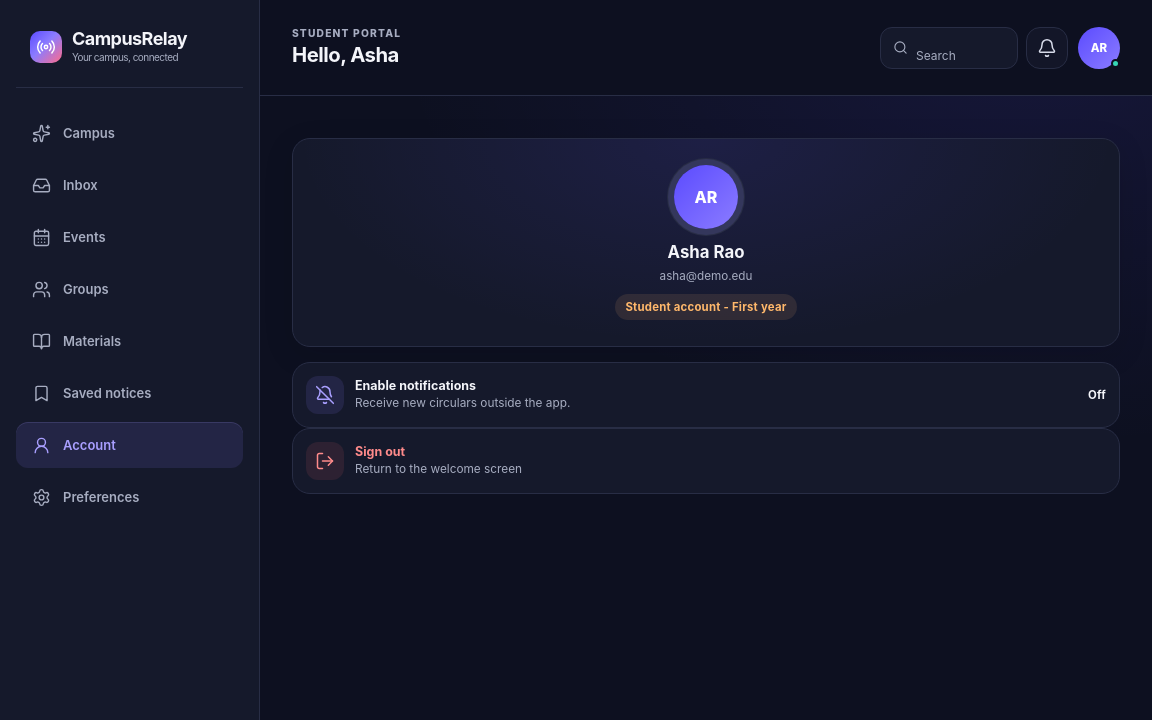
StudentPortal Tier 2 controls › registers, stores, and removes a browser push subscription
The image size is (1152, 720).
Click the button "Enable notifications".
click(325, 395)  # box [293, 363, 1119, 427]
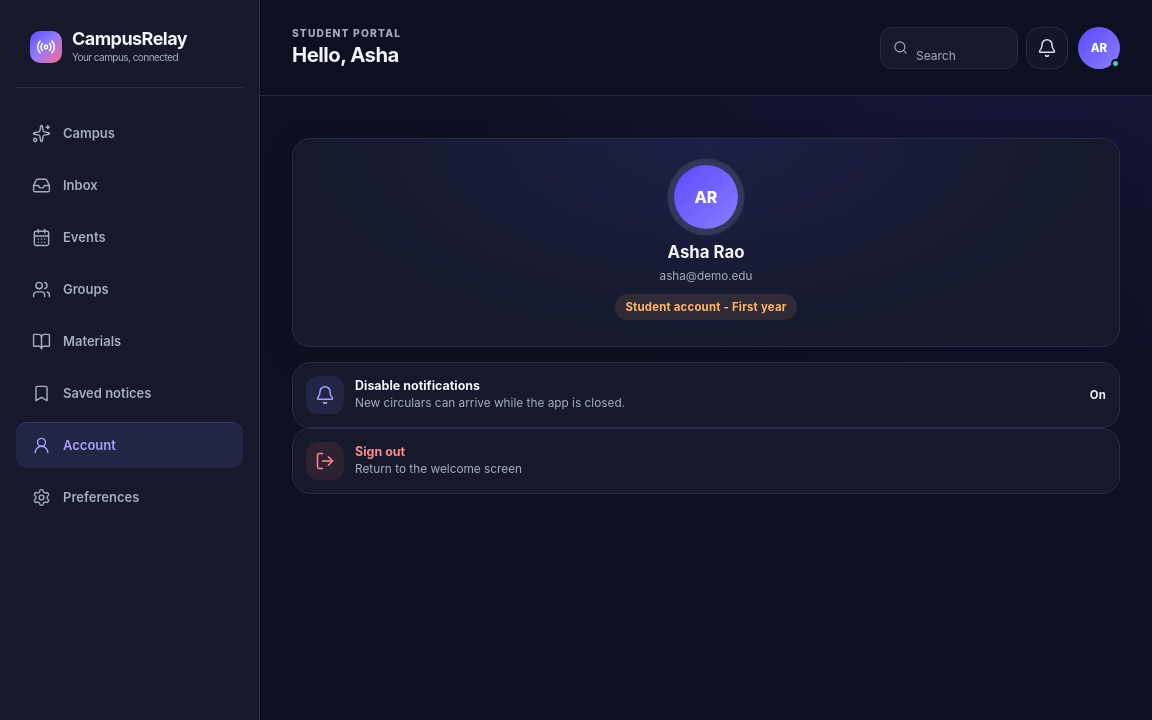
Check: the button "Disable notifications" is shown
Click the button "Disable notifications".
click(325, 395)  # box [293, 363, 1119, 427]
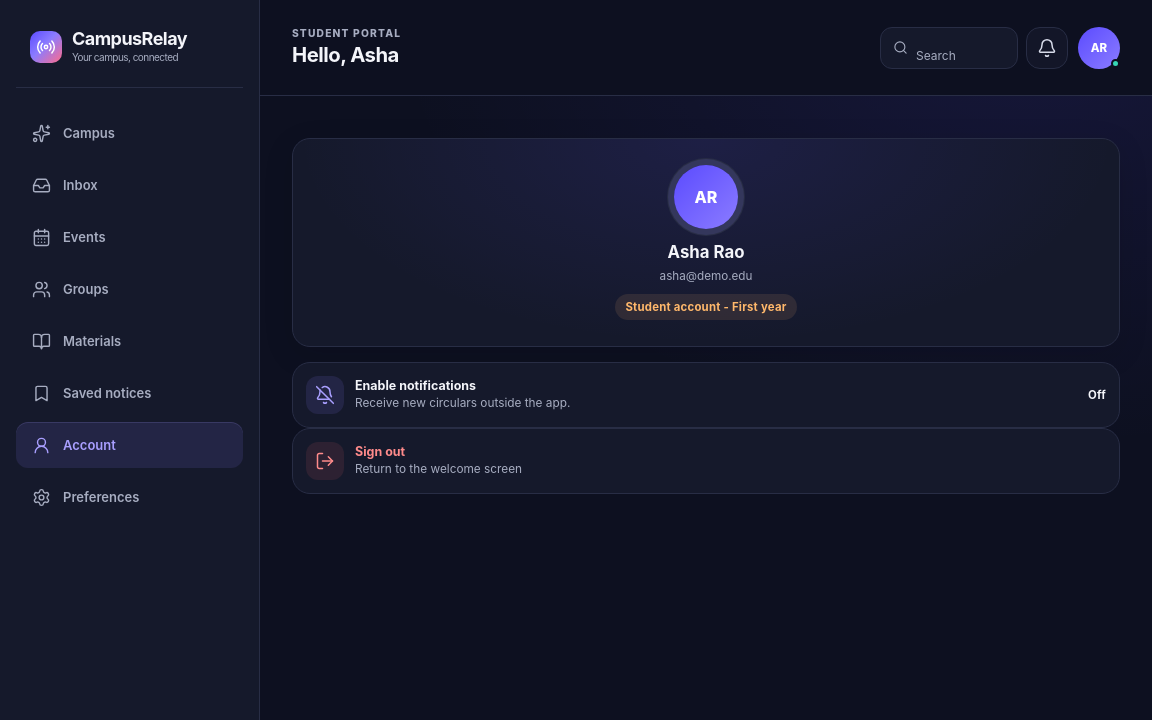
Check: the button "Enable notifications" is shown, box [293, 363, 1119, 427]
